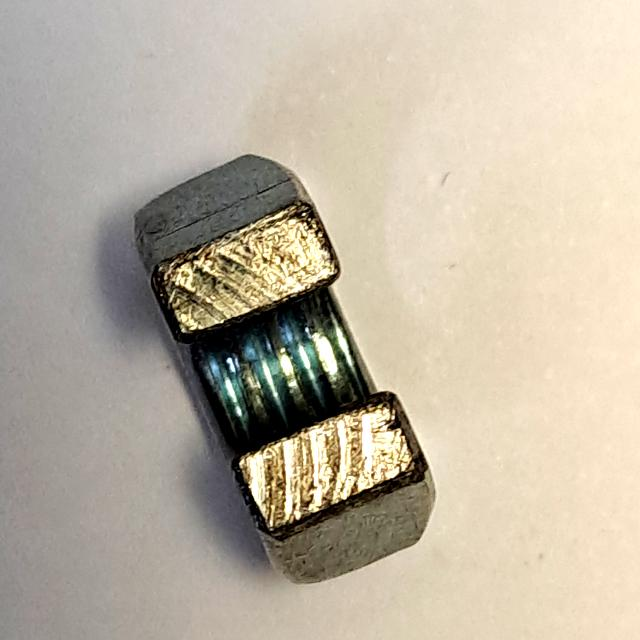Side-Fracture: (122, 136, 462, 595)
